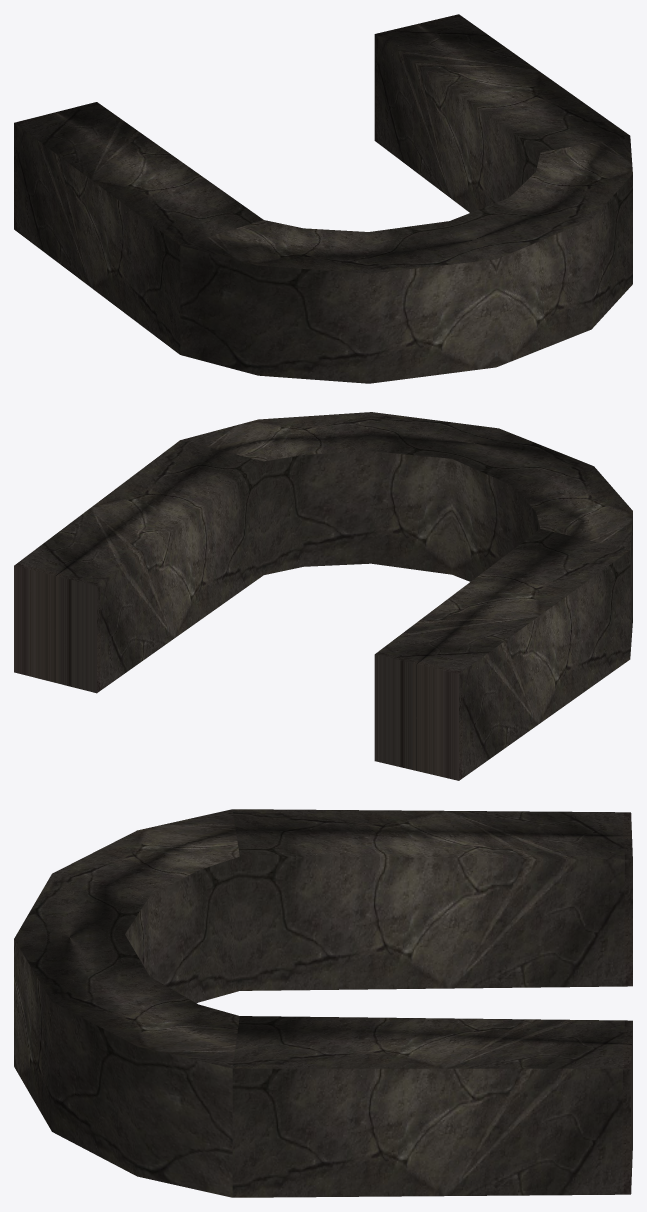
File: gate_05.obj
3 views of the same model, one above another, from view 1: azimuth 30°, elevation 25°; view 2: azimuth 150°, elevation 25°; view 3: azimuth 270°, elevation 25° (orthographic). The views are drawn at different scales.
Parts seen in each view (by area): view 1: (null); view 2: (null); view 3: (null).
Boxes of the visible parts, left/top/right/bottom form: (null): left=14, top=14, right=632, bottom=383; (null): left=14, top=412, right=632, bottom=780; (null): left=14, top=809, right=632, bottom=1197.
Size of the model in its own units: 3.86 by 0.9498 by 3.89.
